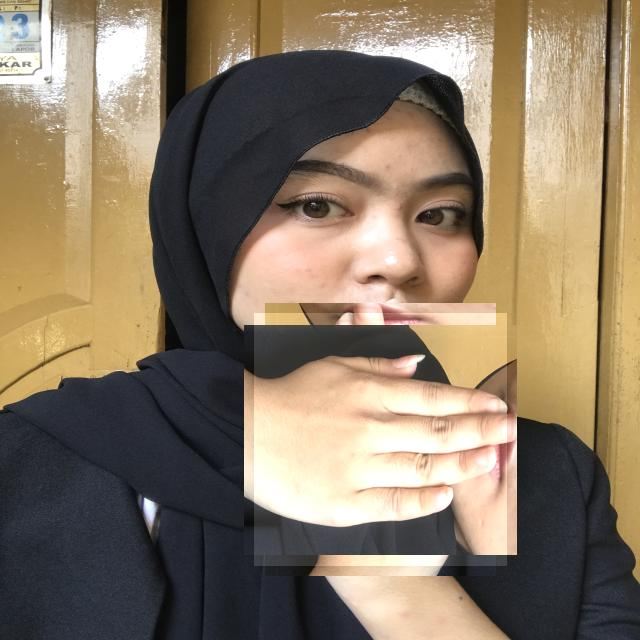ganteng: (254, 313, 507, 566)
